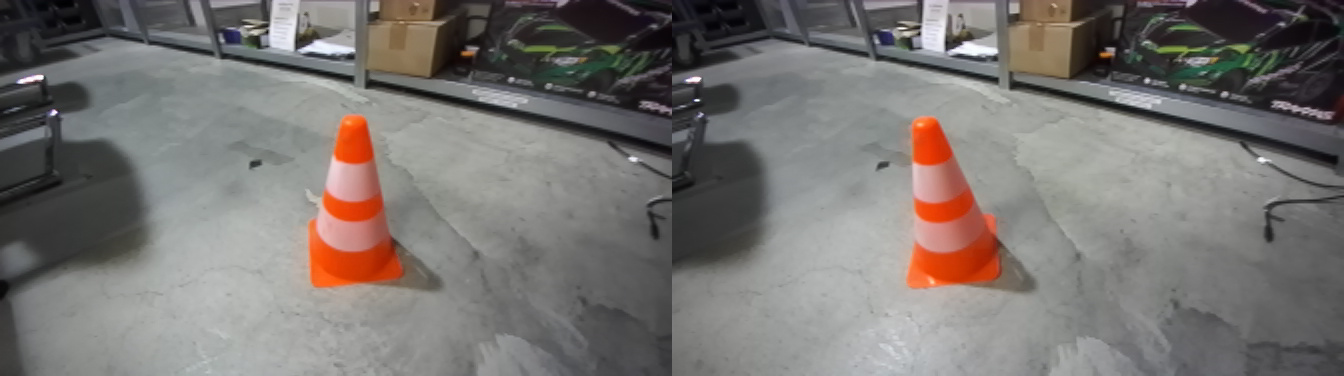cone: (900, 121, 1007, 296), (307, 116, 410, 292)
